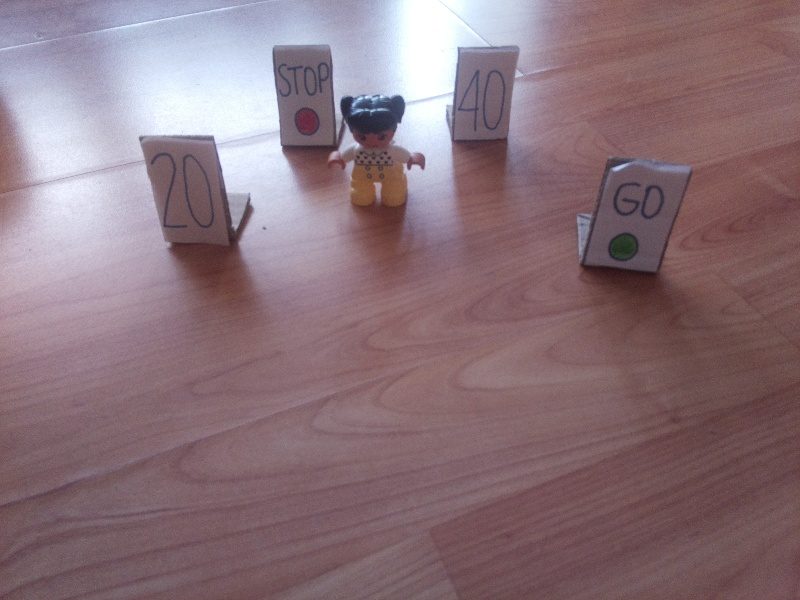20: (149, 148, 218, 230)
40: (459, 64, 508, 138)
go: (606, 179, 665, 264)
person: (338, 90, 425, 214)
stop: (277, 60, 332, 136)
